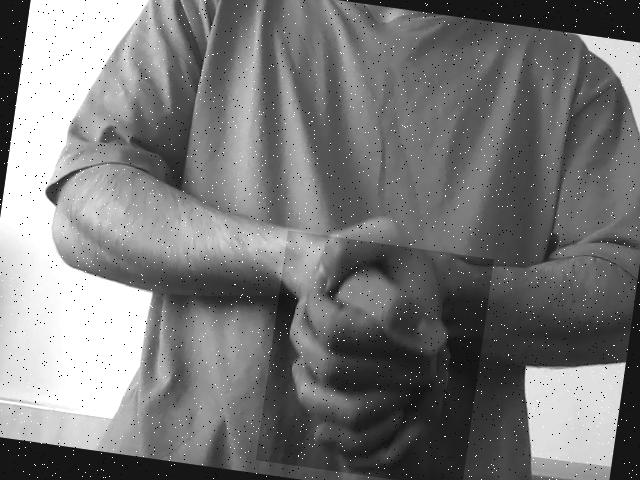friend: (256, 230, 494, 480)
